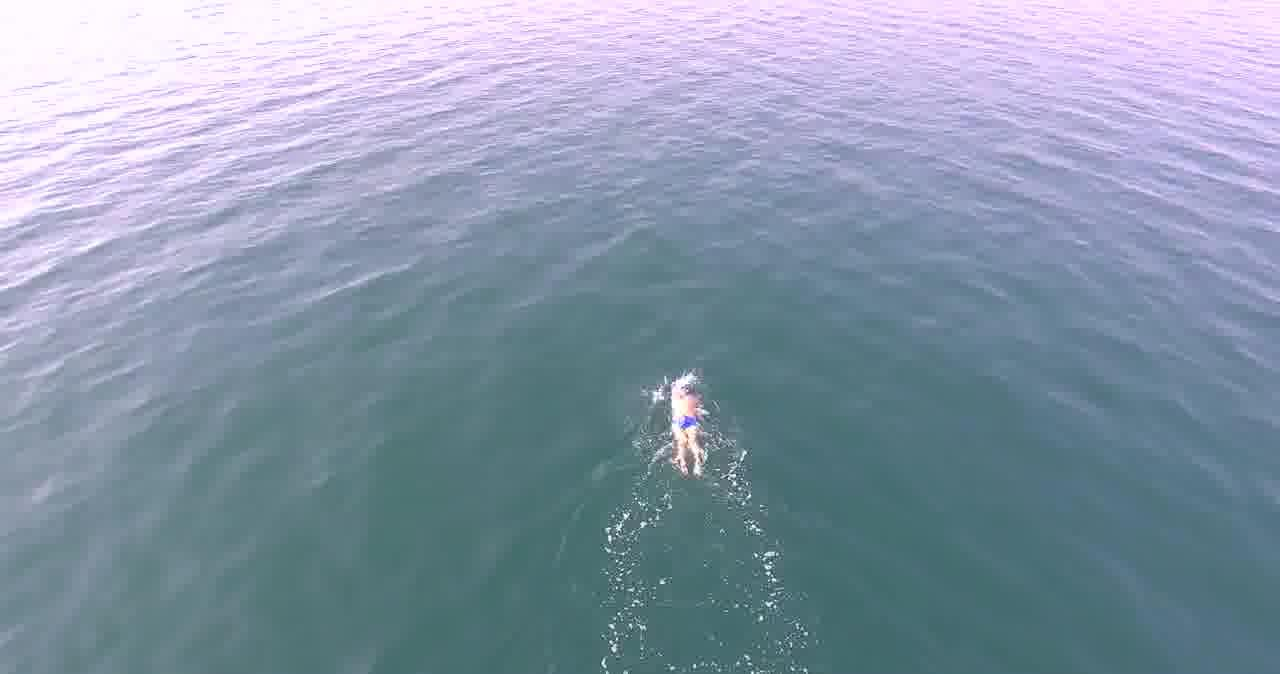human: (660, 368, 714, 488)
